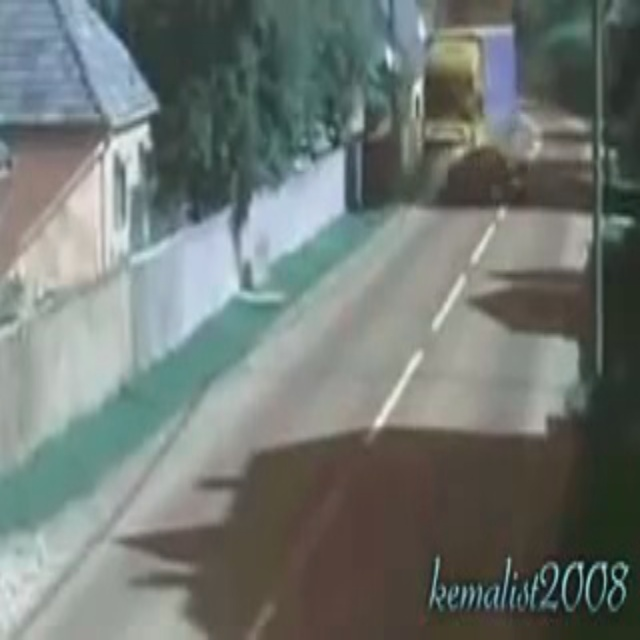acc: (417, 117, 541, 224)
